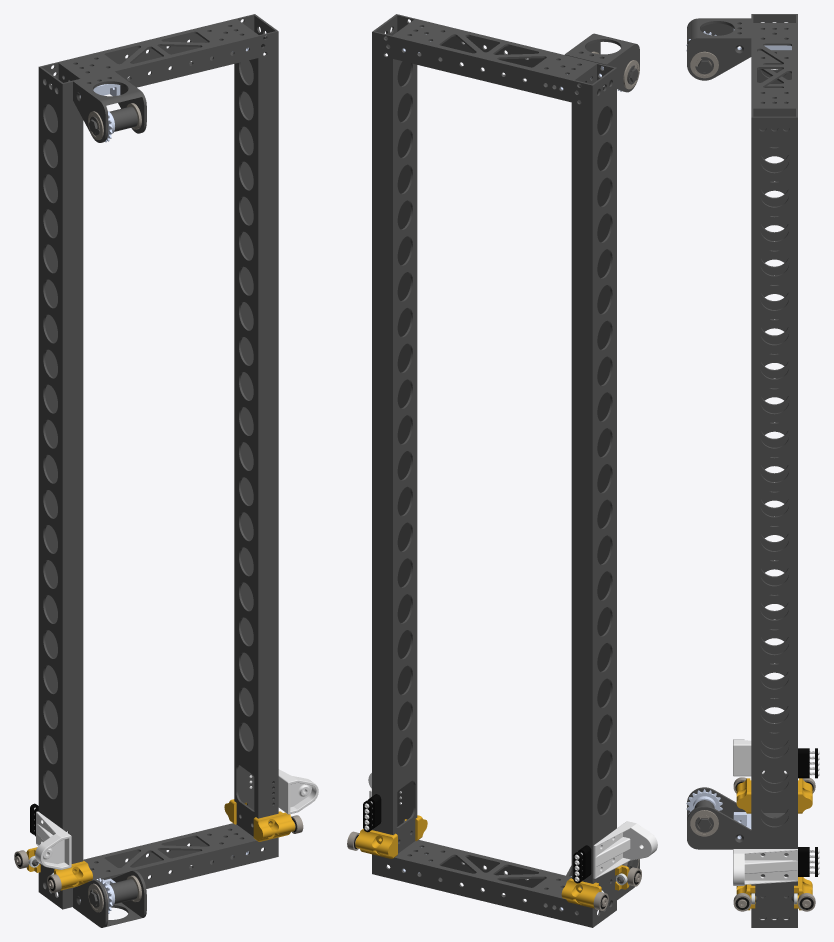
3 renders of one model, left to right at view 1: azimuth 30°, elevation 25°; view 2: azimuth 150°, elevation 25°; view 3: azimuth 270°, elevation 25°, orthographic. The views are drawn at different scales.
Visible parts, largest first — view 1: 5409-25-P-52001-ELEVATOR-TUBE-A-STAGE-2 v89:1, 5409-25-P-52001-ELEVATOR-TUBE-A-STAGE-2 v89:2, 5409-25-P-52004-ELEVATOR-TUBE-D-STAGE-2 v57:1, 5409-25-P-52004-ELEVATOR-TUBE-D-STAGE-2 v57:2, 5409-25-P-52014-SPROCKET-TUBE v42:1 (×2), WCP-0323-001 Rev2:1 (×2), 5409-25-P-54004- SPRING BOTTOM MOUNT v7:1, 5409-25-P-54004- SPRING BOTTOM MOUNT v7:2; view 2: 5409-25-P-52001-ELEVATOR-TUBE-A-STAGE-2 v89:2, 5409-25-P-52001-ELEVATOR-TUBE-A-STAGE-2 v89:1, 5409-25-P-52004-ELEVATOR-TUBE-D-STAGE-2 v57:1, 5409-25-P-52004-ELEVATOR-TUBE-D-STAGE-2 v57:2, 5409-25-P-54004- SPRING BOTTOM MOUNT v7:1, WCP-0323-001 Rev2:1 (×2), 5409-25-P-52014-SPROCKET-TUBE v42:1; view 3: 5409-25-P-52001-ELEVATOR-TUBE-A-STAGE-2 v89:1, 5409-25-P-52001-ELEVATOR-TUBE-A-STAGE-2 v89:2, 5409-25-P-52014-SPROCKET-TUBE v42:1 (×2), 5409-25-P-52004-ELEVATOR-TUBE-D-STAGE-2 v57:1, 5409-25-P-54004- SPRING BOTTOM MOUNT v7:2, WCP-0323-001 Rev2:1 (×3), 0.500 Hex ID x 1.125 OD x 0.313 WD (Flanged Bearing v2) (217 (×2), 5409-25-P-54004- SPRING BOTTOM MOUNT v7:1, 18T Aluminum Hub Sprocket (#25 Chain, 1_2 Hex Bore) (217-348, 5409-25-P-52006-CHAIN-CLAMP-EXTENDER v3:1, 5409-25-P-52006-CHAIN-CLAMP-EXTENDER v3:2.
Part boxes in pixels (bbox=[...]): 5409-25-P-52001-ELEVATOR-TUBE-A-STAGE-2 v89:1: bbox=[234, 14, 278, 861]; 5409-25-P-52001-ELEVATOR-TUBE-A-STAGE-2 v89:2: bbox=[38, 61, 83, 909]; 5409-25-P-52004-ELEVATOR-TUBE-D-STAGE-2 v57:1: bbox=[60, 19, 258, 87]; 5409-25-P-52004-ELEVATOR-TUBE-D-STAGE-2 v57:2: bbox=[83, 823, 258, 888]; 5409-25-P-52014-SPROCKET-TUBE v42:1 (×2): bbox=[73, 71, 146, 927]; WCP-0323-001 Rev2:1 (×2): bbox=[54, 811, 295, 890]; 5409-25-P-54004- SPRING BOTTOM MOUNT v7:1: bbox=[35, 811, 71, 869]; 5409-25-P-54004- SPRING BOTTOM MOUNT v7:2: bbox=[278, 769, 318, 814]; 5409-25-P-52001-ELEVATOR-TUBE-A-STAGE-2 v89:2: bbox=[571, 62, 616, 927]; 5409-25-P-52001-ELEVATOR-TUBE-A-STAGE-2 v89:1: bbox=[372, 14, 417, 878]; 5409-25-P-52004-ELEVATOR-TUBE-D-STAGE-2 v57:1: bbox=[393, 19, 595, 102]; 5409-25-P-52004-ELEVATOR-TUBE-D-STAGE-2 v57:2: bbox=[393, 840, 571, 922]; 5409-25-P-54004- SPRING BOTTOM MOUNT v7:1: bbox=[593, 821, 657, 878]; WCP-0323-001 Rev2:1 (×2): bbox=[355, 829, 601, 908]; 5409-25-P-52014-SPROCKET-TUBE v42:1: bbox=[564, 33, 639, 92]; 5409-25-P-52001-ELEVATOR-TUBE-A-STAGE-2 v89:1: bbox=[751, 107, 797, 927]; 5409-25-P-52001-ELEVATOR-TUBE-A-STAGE-2 v89:2: bbox=[751, 14, 797, 812]; 5409-25-P-52014-SPROCKET-TUBE v42:1 (×2): bbox=[687, 18, 751, 849]; 5409-25-P-52004-ELEVATOR-TUBE-D-STAGE-2 v57:1: bbox=[751, 24, 797, 107]; 5409-25-P-54004- SPRING BOTTOM MOUNT v7:2: bbox=[733, 849, 797, 885]; WCP-0323-001 Rev2:1 (×3): bbox=[736, 778, 812, 910]; 0.500 Hex ID x 1.125 OD x 0.313 WD (Flanged Bearing v2) (217 (×2): bbox=[690, 51, 718, 836]; 5409-25-P-54004- SPRING BOTTOM MOUNT v7:1: bbox=[733, 739, 786, 776]; 18T Aluminum Hub Sprocket (#25 Chain, 1_2 Hex Bore) (217-348: bbox=[686, 789, 722, 814]; 5409-25-P-52006-CHAIN-CLAMP-EXTENDER v3:1: bbox=[798, 748, 809, 778]; 5409-25-P-52006-CHAIN-CLAMP-EXTENDER v3:2: bbox=[798, 847, 809, 876].
Size of the model in its own units: 0.3426 by 0.9727 by 0.1446.
